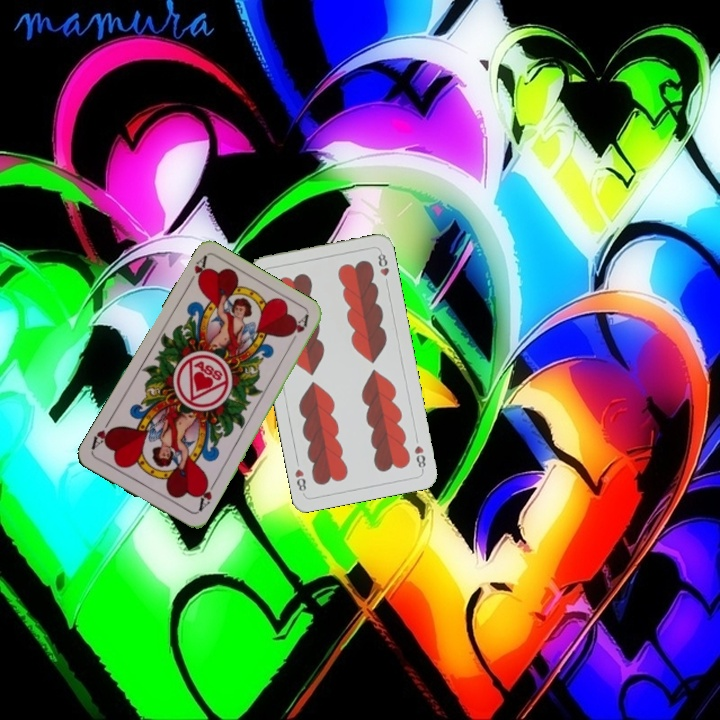H8: (410, 441, 428, 473)
HA: (183, 252, 210, 290), (193, 475, 218, 515)
